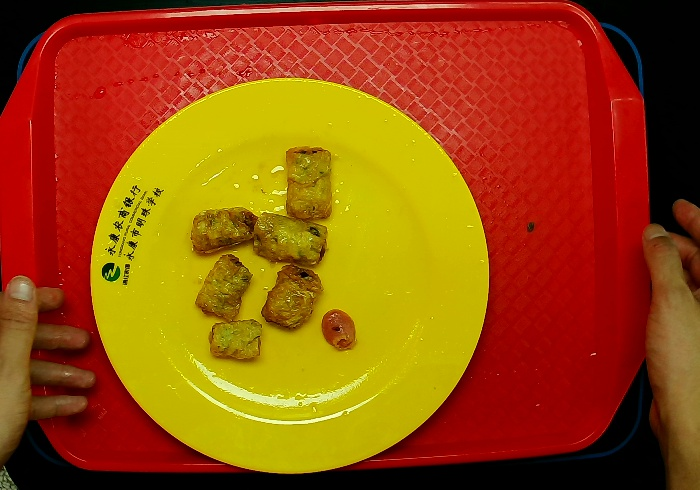YKMZ-Huang_Se_Mian_Pan: (89, 75, 494, 476)
